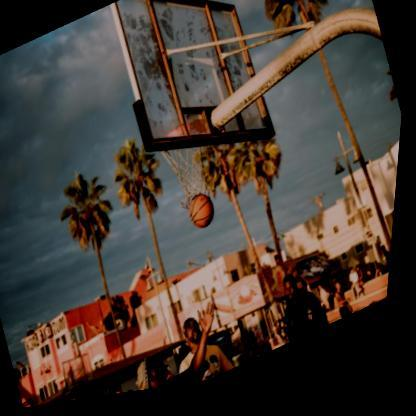basketball: (187, 195, 224, 241)
rim: (150, 108, 237, 228)
